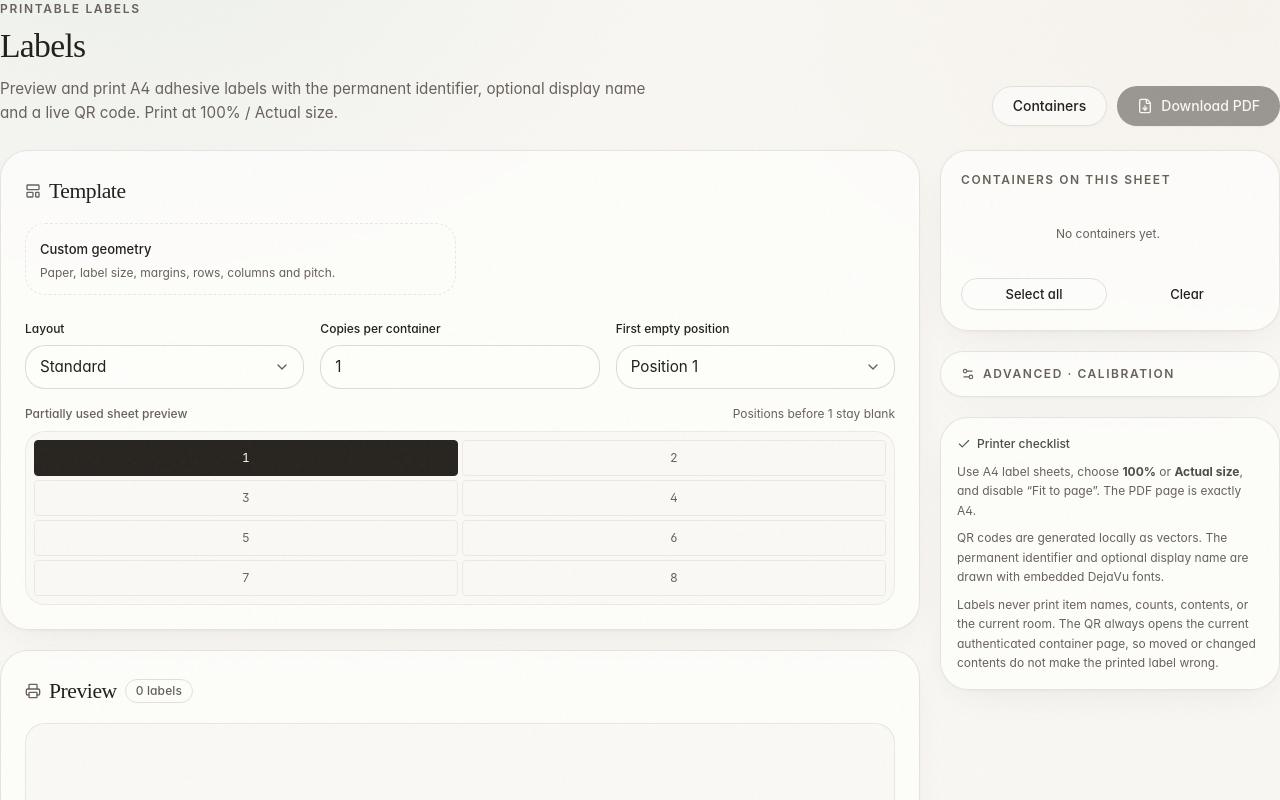
it: LabelsPage calibration › keeps calibration closed under Advanced until it is opened
The width and height of the screenshot is (1280, 800).
Click the heading "Advanced · Calibration": click(1068, 374) [961, 366, 1175, 381]
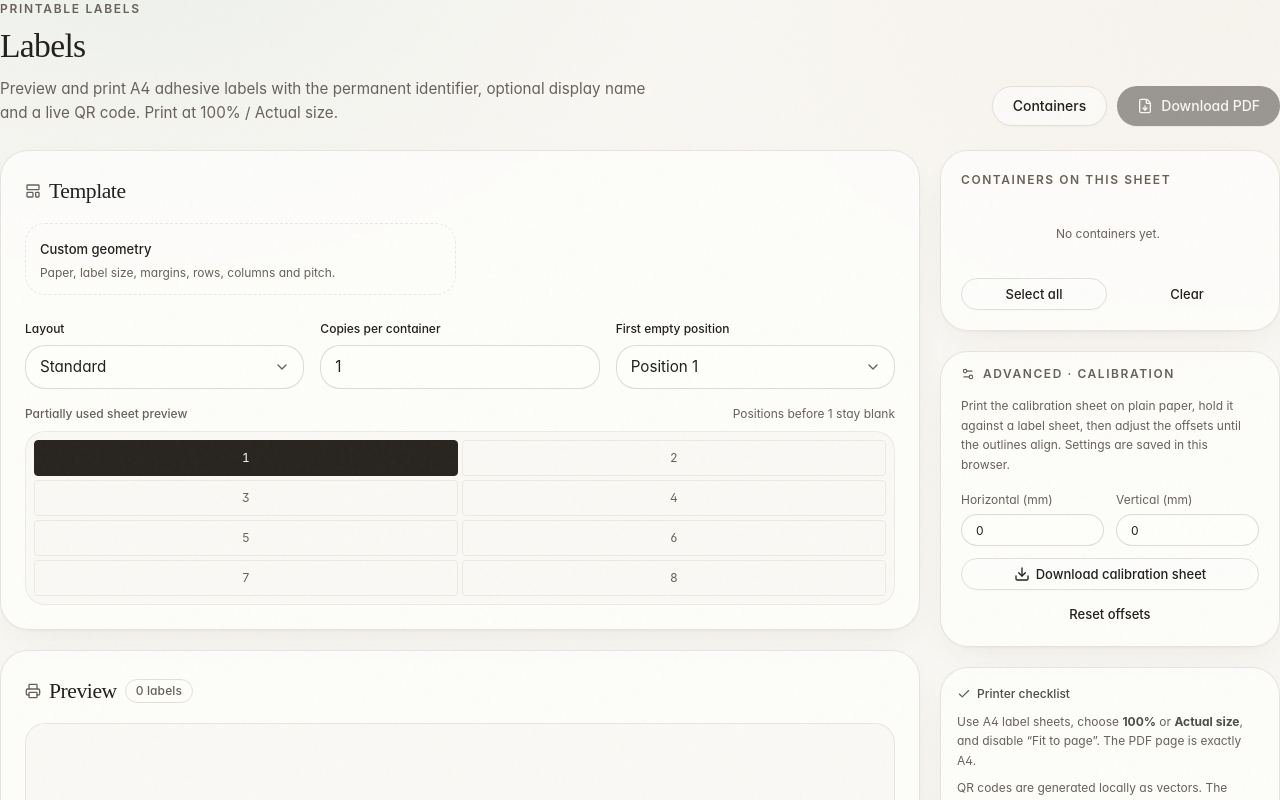
Now the button "Download calibration sheet" is shown, box [961, 558, 1259, 590]
Now the number field labelled "Horizontal (mm)" holds "0", box [961, 514, 1104, 546]
